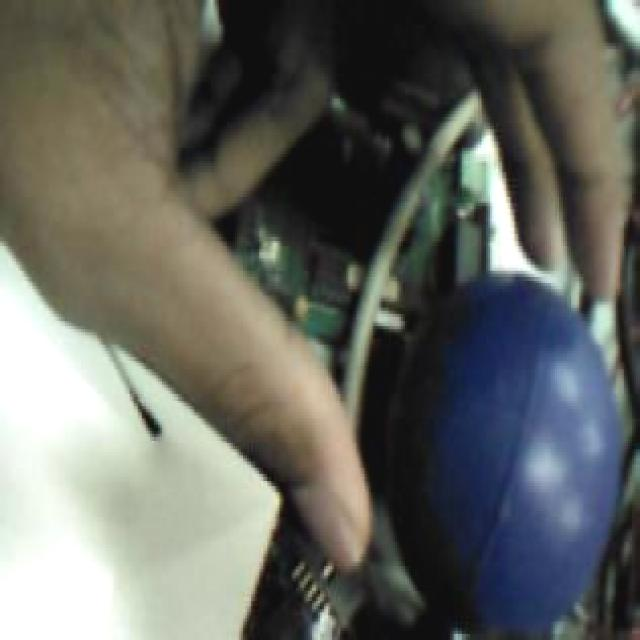BallPurple: (390, 276, 622, 626)
